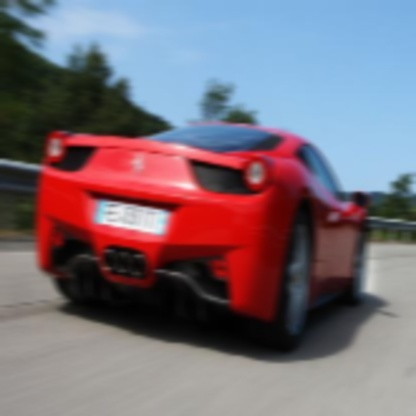Vehicle: (35, 120, 371, 353)
